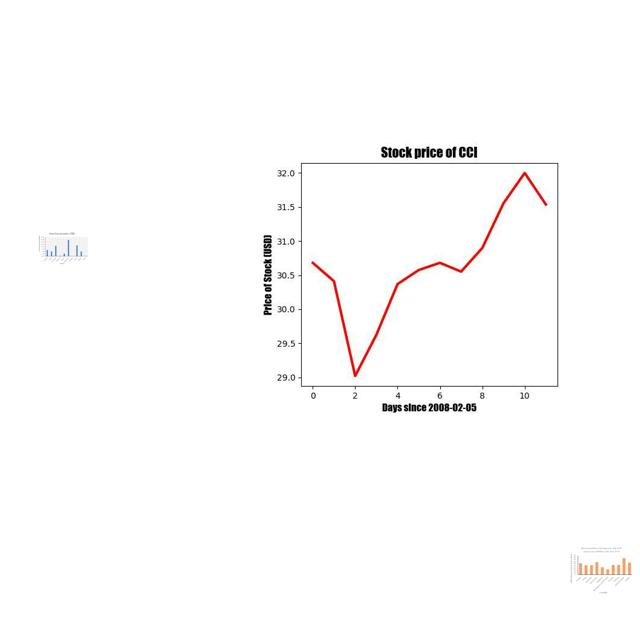Graph: (231, 128, 618, 418), (569, 546, 633, 595), (38, 232, 89, 265)
